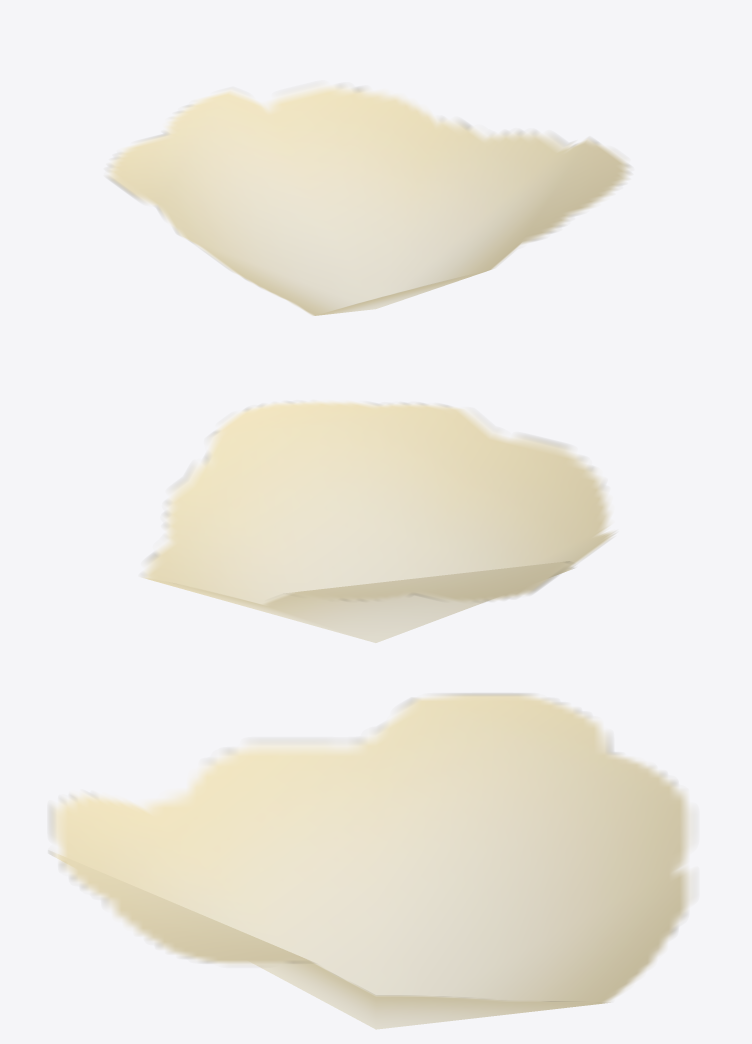
File: flower.glb
3 renders of one model, top to bottom at view 1: azimuth 30°, elevation 25°; view 2: azimuth 150°, elevation 25°; view 3: azimuth 270°, elevation 25°, orthographic. The views are drawn at different scales.
Visible parts, largest first — view 1: flower 2_leaf and grass_0; view 2: flower 2_leaf and grass_0; view 3: flower 2_leaf and grass_0.
Boxes of the visible parts, x1=… form: flower 2_leaf and grass_0: x1=107, y1=85, x2=630, y2=315; flower 2_leaf and grass_0: x1=141, y1=401, x2=615, y2=642; flower 2_leaf and grass_0: x1=49, y1=693, x2=694, y2=1029.
Size of the model in its own units: 0.1497 by 0.0443 by 0.1497.
1 material, 1 textured.
